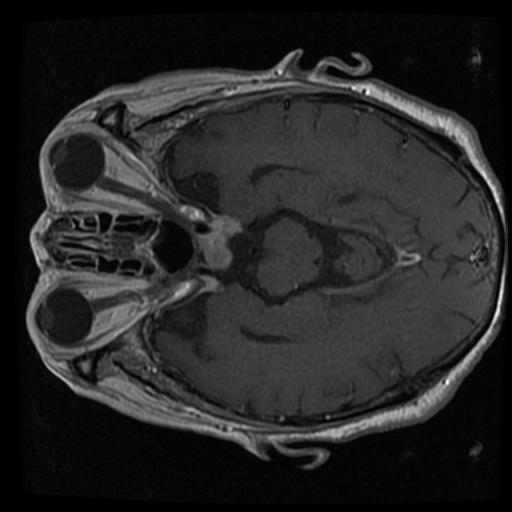pituitary tumour: (197, 215, 242, 270)
